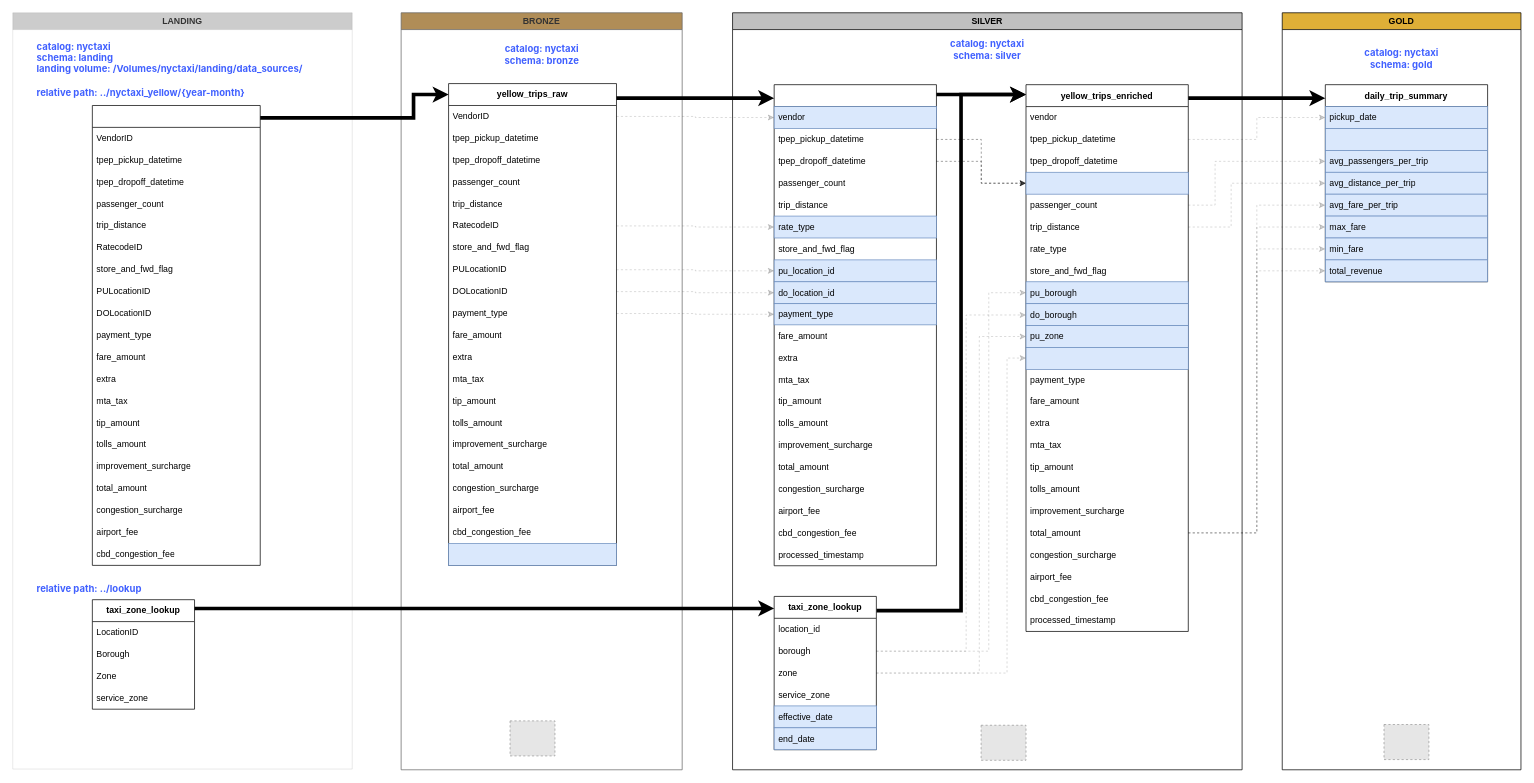
Some shapes in this 1534 by 783 pixel diagram are drawn without their labels. Grey dashed boxes stand in for pictures. The box of each missing label's shape, as (x1, y1, x2, y2) in pixels:
do_zone: (1025, 347, 1188, 369)
processed_timestamp (timestamp): (448, 543, 616, 565)
total_trips: (1325, 128, 1488, 150)
trip_duration_mins: (1025, 172, 1188, 194)
yellow_tripdata_{year-month}.parquet: (92, 105, 260, 565)
yellow_trips_cleansed: (773, 84, 936, 566)
